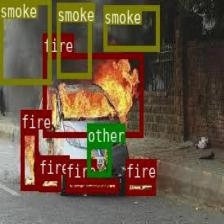fire: (42, 52, 142, 136), (20, 129, 38, 189), (65, 178, 118, 191), (125, 178, 154, 194), (38, 175, 60, 191)
smoke: (0, 0, 50, 84), (56, 1, 91, 78), (103, 5, 159, 51)
